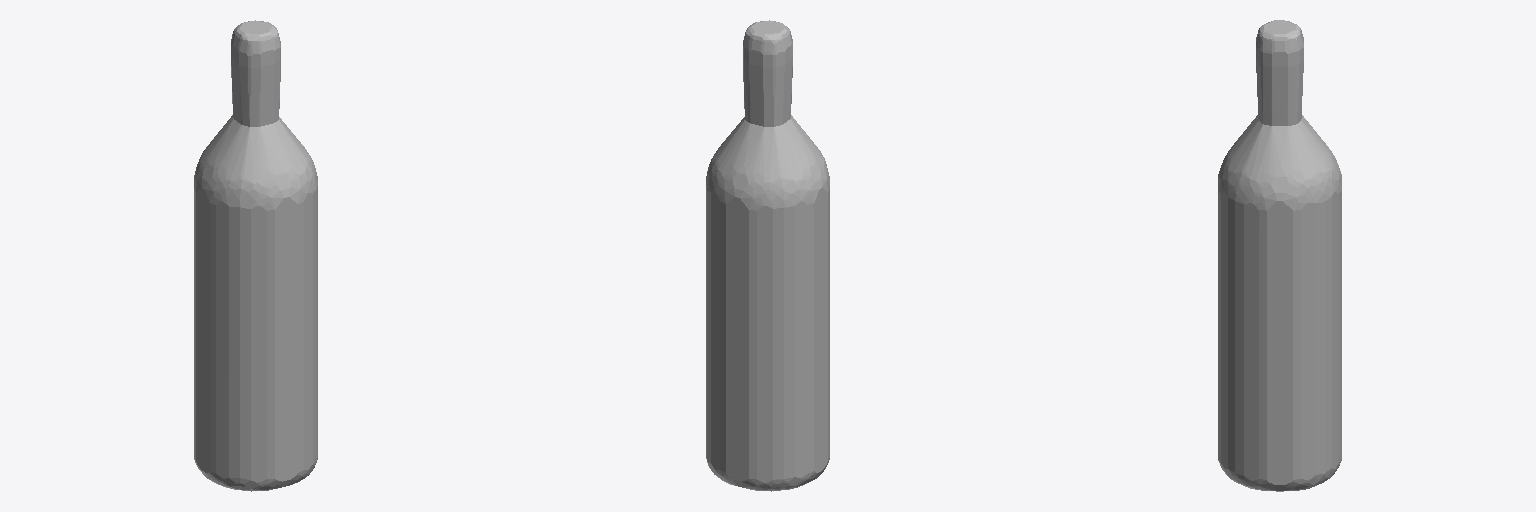
URDF robot description (root):
<?xml version="1.0"?>
<robot name="root">
  <link name="base_link">
    <visual>
      <origin xyz="0 0 0" rpy="0 0 0" />
      <geometry>
        <mesh filename="../meshes/unidex_sem_Bottle-7b1fc86844257f8fa54fd40ef3a8dfd0_006.obj" scale="1.0000E+00 1.0000E+00 1.0000E+00" />
      </geometry>
      <material name="">
        <color rgba="7.50E-01 7.50E-01 7.50E-01 1" />
      </material>
    </visual>
    <collision>
      <origin xyz="0 0 0" rpy="0 0 0" />
      <geometry>
        <mesh filename="../meshes/unidex_sem_Bottle-7b1fc86844257f8fa54fd40ef3a8dfd0_006.obj" scale="1.0000E+00 1.0000E+00 1.0000E+00" />
      </geometry>
    </collision>
  </link>
</robot>

--- Facts derived from the render (not from the file) ---
3 views of the same robot in one strip: view 1: azimuth 30°, elevation 25°; view 2: azimuth 150°, elevation 25°; view 3: azimuth 270°, elevation 25° (orthographic).
Robot: root — 1 links, 0 joints (none); root link base_link; default pose: all joints at 0.
Visible links, largest first — view 1: base_link; view 2: base_link; view 3: base_link.
Link boxes in pixels (left/top/right/bottom): base_link: left=194, top=20, right=317, bottom=491; base_link: left=706, top=20, right=829, bottom=491; base_link: left=1218, top=20, right=1341, bottom=491.
Bounding box of the posed robot: 0.029 × 0.029 × 0.116 m (x, y, z).
1 mesh visuals loaded from 1 distinct referenced files (1 OBJ).
